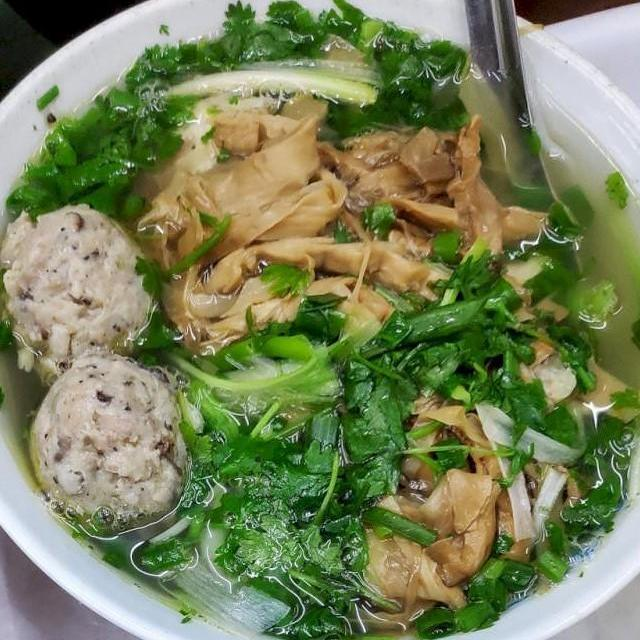vien moc: (12, 340, 198, 545), (0, 201, 164, 398)
